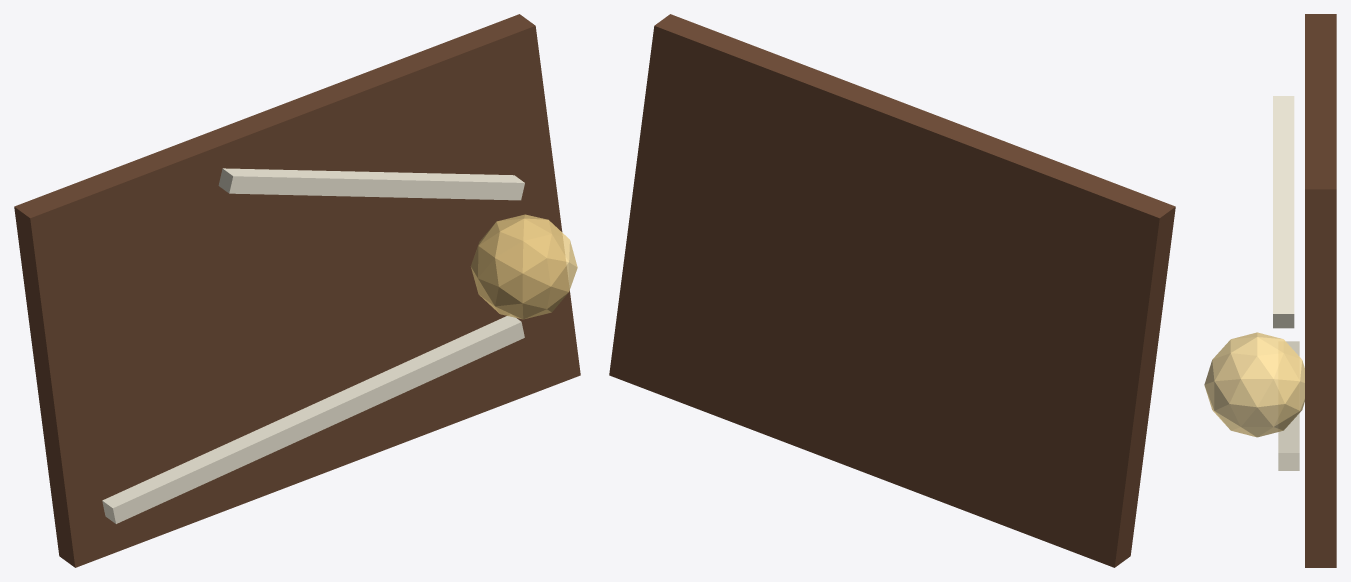
Rendered from 02_world_prop_polish.glb.
3 renders of one model, left to right at view 1: azimuth 30°, elevation 25°; view 2: azimuth 150°, elevation 25°; view 3: azimuth 270°, elevation 25°, orthographic.
Parts seen in each view (by area): view 1: object_overlay_plate, edge_wear_a, glow_socket, edge_wear_b; view 2: object_overlay_plate; view 3: object_overlay_plate, glow_socket, edge_wear_b, edge_wear_a.
Boxes of the visible parts, x1,y1,x2,y2 form: object_overlay_plate: (14, 14, 580, 567); edge_wear_a: (102, 315, 524, 523); glow_socket: (470, 214, 577, 319); edge_wear_b: (218, 168, 524, 200); object_overlay_plate: (609, 14, 1175, 567); object_overlay_plate: (1305, 14, 1336, 567); glow_socket: (1204, 332, 1304, 437); edge_wear_b: (1273, 96, 1294, 328); edge_wear_a: (1278, 341, 1299, 470).
Size of the model in its own units: 1.19 by 0.8864 by 0.25.
